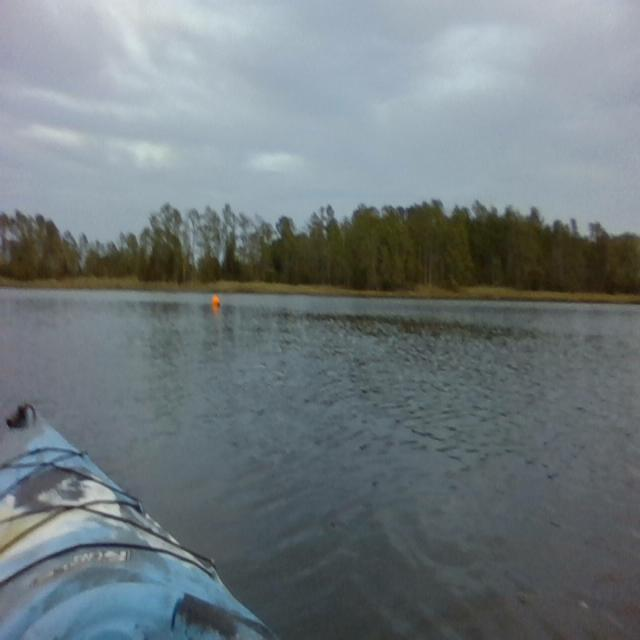Buoy: (210, 292, 222, 312)
